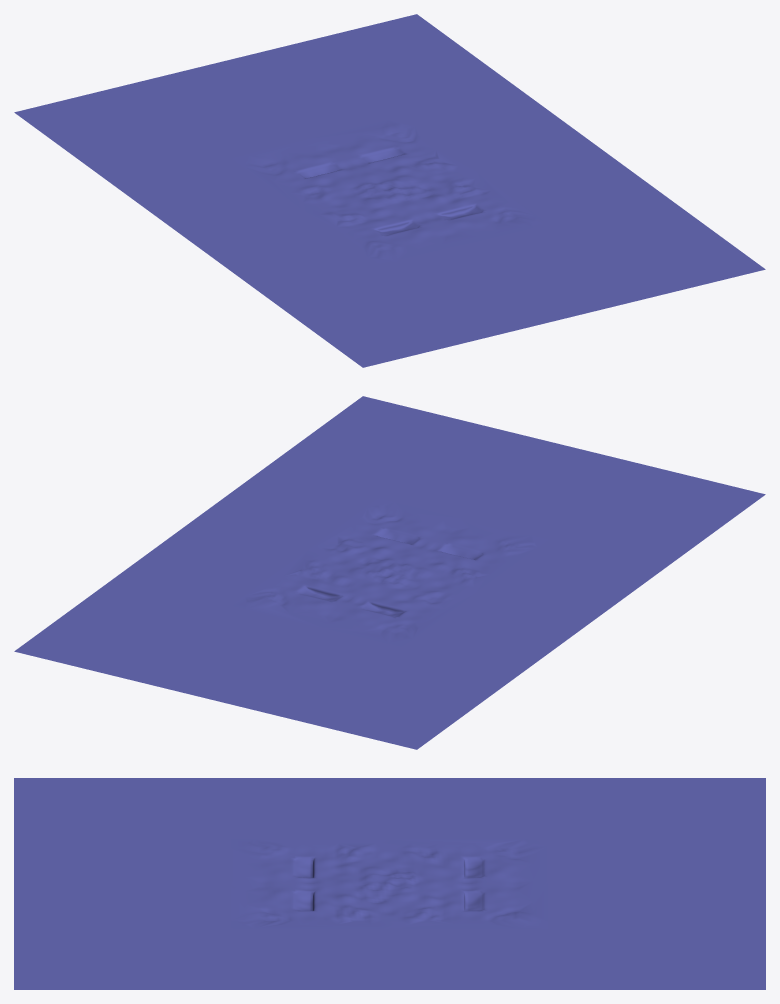
File: 3D_Map_Flat_001.FBX
3 renders of one model, top to bottom at view 1: azimuth 30°, elevation 25°; view 2: azimuth 150°, elevation 25°; view 3: azimuth 270°, elevation 25°, orthographic. The views are drawn at different scales.
Parts seen in each view (by area): view 1: Plane001; view 2: Plane001; view 3: Plane001.
Part boxes in pixels (box(x1,y1,x2,y2)): Plane001: box(14, 14, 765, 367); Plane001: box(14, 396, 765, 749); Plane001: box(14, 778, 765, 989).
Size of the model in its own units: 11356 by 190 by 17033.
